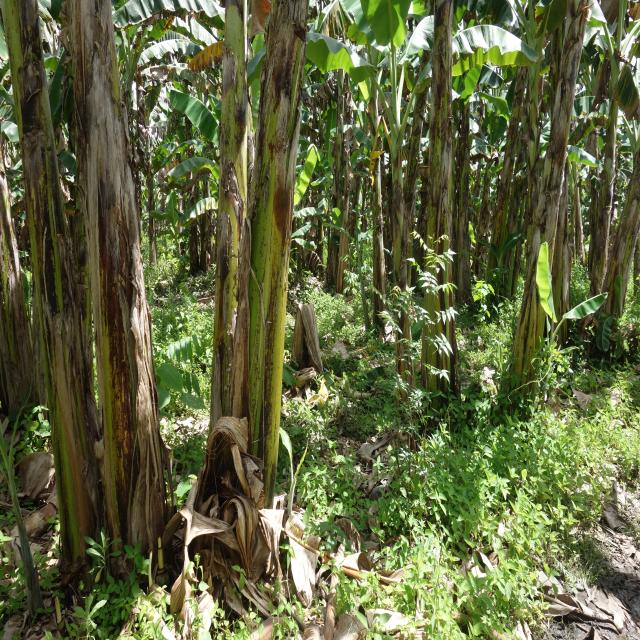Banana-plant: (71, 0, 173, 582), (0, 3, 100, 583), (498, 0, 590, 398), (245, 0, 306, 575), (213, 0, 245, 574), (480, 38, 542, 304), (424, 0, 461, 414), (580, 49, 624, 350), (379, 63, 415, 395)
